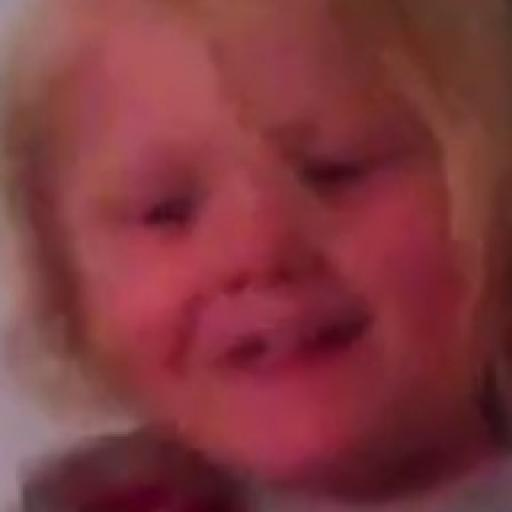Autism: (27, 20, 512, 512)
